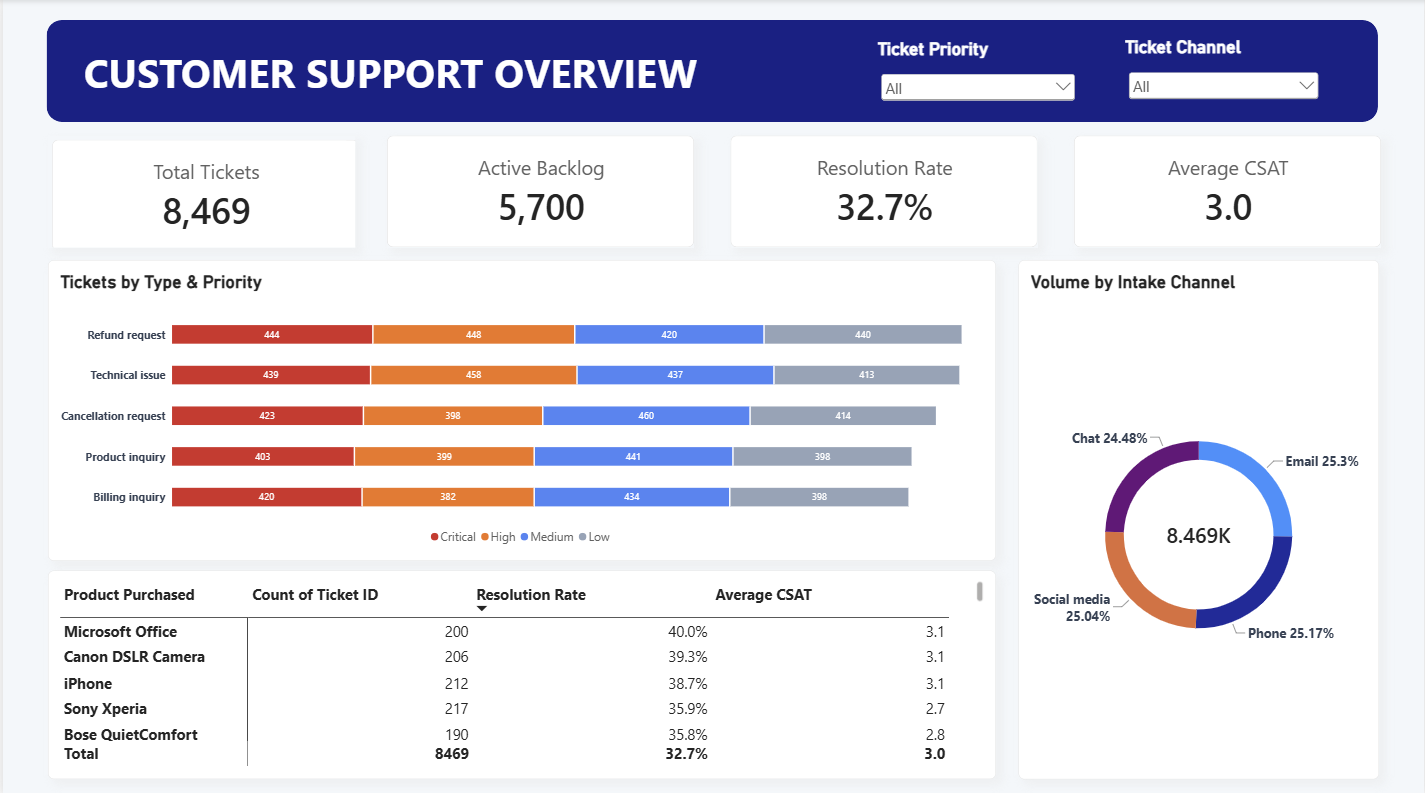

Layout of this report page (visuals, bound fields, positions):
{"tool":"powerbi","page":{"name":"Executive Overview","canvas":[1920,1080],"ordinal":0},"visuals":[{"type":"shape","box":[59,28.8,1799.7,137.8],"z":0,"group":"g1"},{"type":"group","id":"g1","title":"Group 2","box":[59,28.8,1799.7,137.8],"z":0},{"type":"cardVisual","fields":{"Data":["customer_support_tickets.Total Tickets"]},"box":[61.2,183.7,415,151.7],"z":0,"group":"g2"},{"type":"textbox","box":[109.2,64.1,870.3,87.5],"z":1000,"group":"g1"},{"type":"group","id":"g2","title":"Group 1","box":[61.2,183.7,1801.9,150.9],"z":1000},{"type":"barChart","title":"Tickets by Type & Priority","fields":{"Category":["customer_support_tickets.Ticket Type"],"Series":["customer_support_tickets.Ticket Priority"],"Y":["customer_support_tickets.Total Tickets"]},"box":[61.2,352.1,1281.5,406.7],"z":1000,"group":"g3"},{"type":"slicer","title":"Ticket Priority","fields":{"Values":["customer_support_tickets.Ticket Priority"]},"box":[1182.7,52.8,271.6,88.9],"z":2000,"group":"g1"},{"type":"group","id":"g3","title":"Group 3","box":[61.2,352.1,1799.7,702],"z":2000},{"type":"donutChart","title":"Volume by Intake Channel","fields":{"Category":["customer_support_tickets.Ticket Channel"],"Y":["CountNonNull(customer_support_tickets.Ticket ID)"]},"box":[1373.3,352.1,487.7,702],"z":2000,"group":"g3"},{"type":"slicer","title":"Ticket Channel","fields":{"Values":["customer_support_tickets.Ticket Channel"]},"box":[1516.8,50.2,266.1,91.1],"z":3000,"group":"g1"},{"type":"pivotTable","fields":{"Rows":["customer_support_tickets.Product Purchased"],"Values":["CountNonNull(customer_support_tickets.Ticket ID)","customer_support_tickets.Resolution Rate","customer_support_tickets.Average CSAT"]},"box":[61.2,772,1281.5,282.1],"z":3000,"group":"g3"},{"type":"cardVisual","fields":{"Data":["customer_support_tickets.Active Backlog"]},"box":[520.4,183.7,415,151.7],"z":4000,"group":"g2"},{"type":"cardVisual","fields":{"Data":["customer_support_tickets.Resolution Rate"]},"box":[984,183.7,415,151.7],"z":5000,"group":"g2"},{"type":"cardVisual","fields":{"Data":["customer_support_tickets.Average CSAT"]},"box":[1447.6,183.7,415,151.7],"z":6000,"group":"g2"}]}

Visuals, with their boxes in screenshot pixels (x1, y1, x2, y2), scaled from the page's 1920x1080 canvas onto the 1425x793 screenshot:
shape: 44, 21, 1380, 122
"Group 2" group: 44, 21, 1380, 122
cardVisual - customer_support_tickets.Total Tickets: 45, 135, 353, 246
textbox: 81, 47, 727, 111
"Group 1" group: 45, 135, 1383, 246
"Tickets by Type & Priority" barChart: 45, 259, 997, 557
"Ticket Priority" slicer: 878, 39, 1079, 104
"Group 3" group: 45, 259, 1381, 774
"Volume by Intake Channel" donutChart: 1019, 259, 1381, 774
"Ticket Channel" slicer: 1126, 37, 1323, 104
pivotTable - customer_support_tickets.Product Purchased x CountNonNull(customer_support_tickets.Ticket ID): 45, 567, 997, 774
cardVisual - customer_support_tickets.Active Backlog: 386, 135, 694, 246
cardVisual - customer_support_tickets.Resolution Rate: 730, 135, 1038, 246
cardVisual - customer_support_tickets.Average CSAT: 1074, 135, 1382, 246
